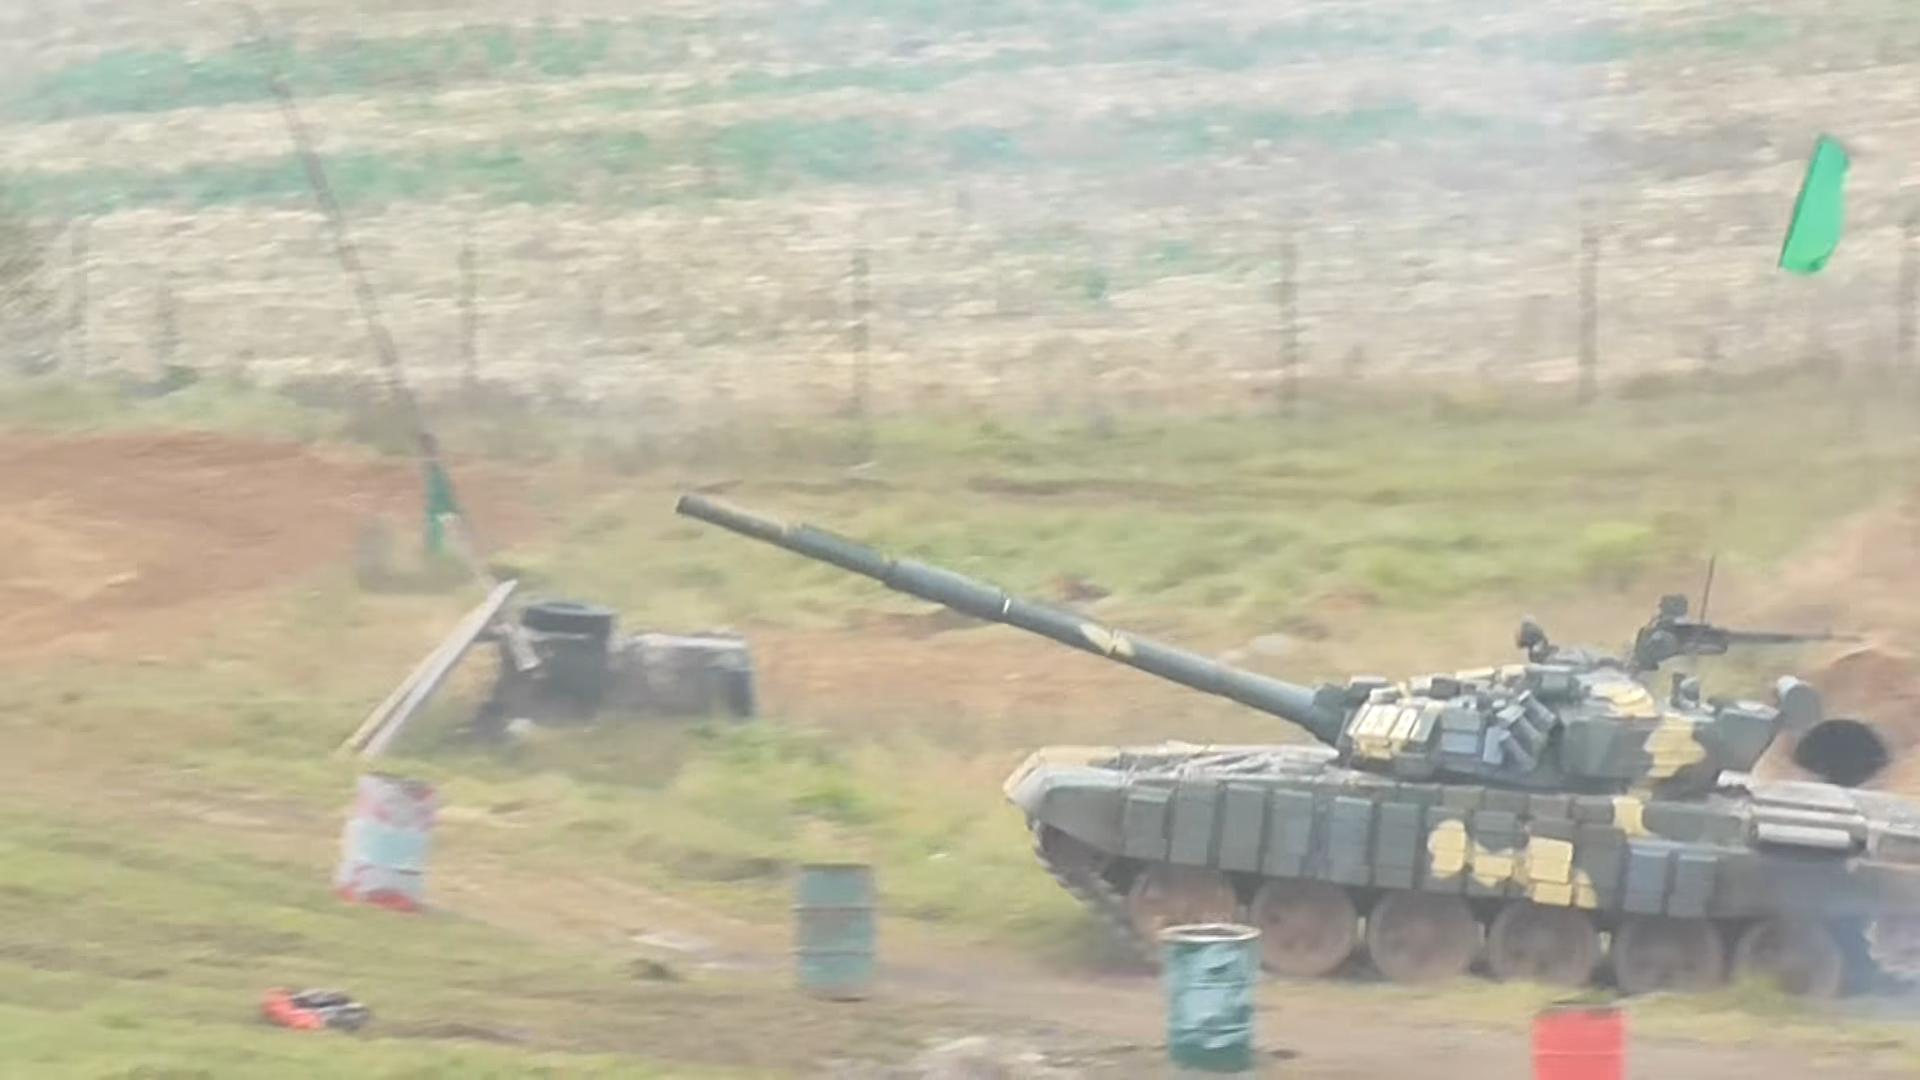tank: (680, 495, 1919, 1001)
